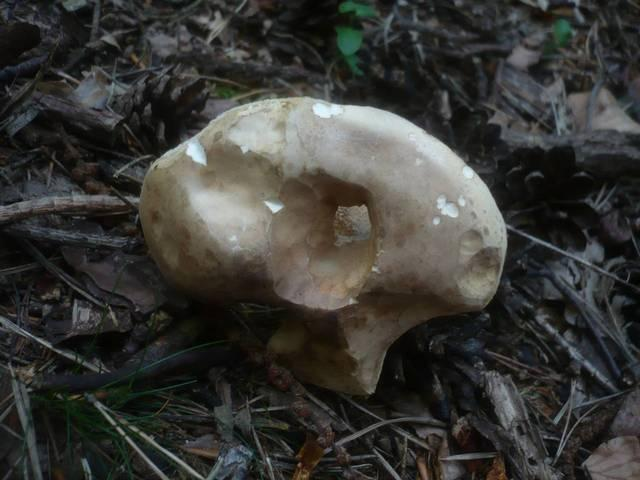poisonous_mushroom: (136, 94, 509, 397)
